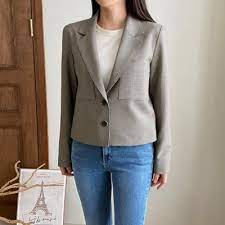blazer: (57, 16, 171, 171)
jeans: (69, 140, 153, 225)
